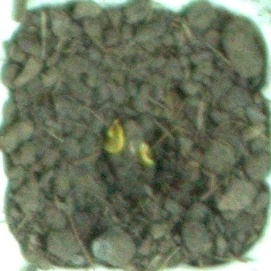pepper seed: (56, 57, 217, 225), (38, 41, 166, 195)
